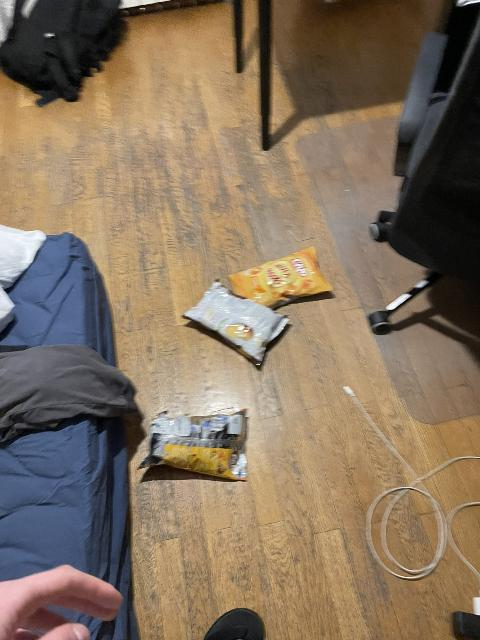Chio Cascaval 125g: (138, 407, 251, 479)
Chio Hula Hoops Cheese 70g: (228, 247, 334, 310)
Lays Beef Grilled Ribs 125g: (181, 280, 291, 364)
